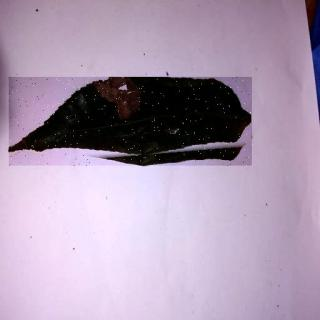Anthracnose: (10, 78, 254, 167)
